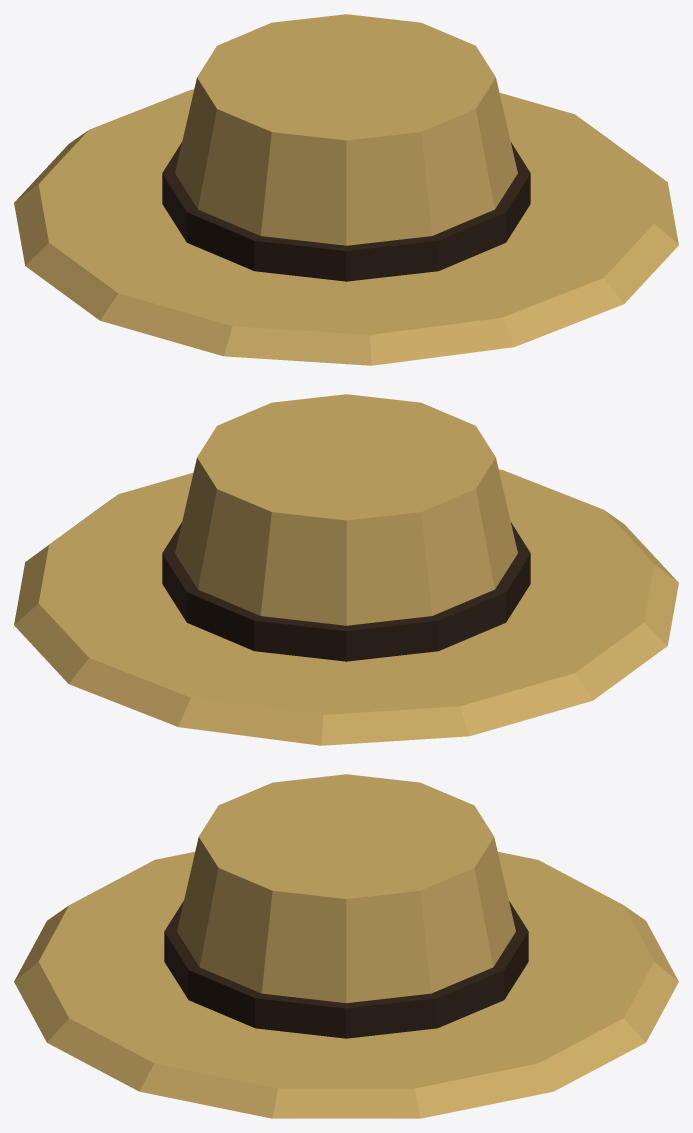
The model's file is hat_straw.glb.
3 views of the same model, one above another, from view 1: azimuth 30°, elevation 25°; view 2: azimuth 150°, elevation 25°; view 3: azimuth 270°, elevation 25° (orthographic).
Visible parts, largest first — view 1: hat_straw; view 2: hat_straw; view 3: hat_straw.
Part boxes in pixels (x1,y1,x2,y2): hat_straw: (14,14,678,365); hat_straw: (14,394,678,745); hat_straw: (14,774,678,1118).
Bounding box in the file's own units: 0.5265 × 0.13 × 0.54.
